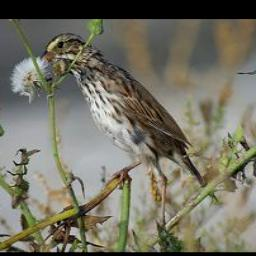Sparrow: (38, 31, 219, 202)
